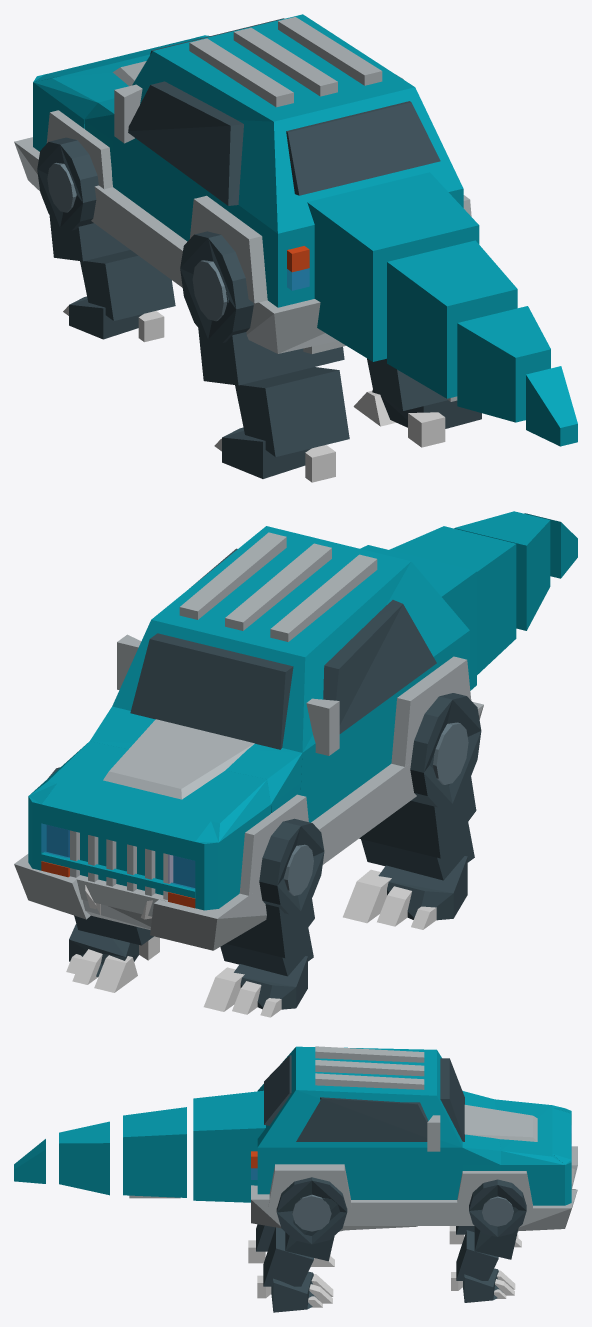
The model's file is car.gltf.
The picture shows the model from 3 angles, top to bottom: view 1: azimuth 30°, elevation 25°; view 2: azimuth 150°, elevation 25°; view 3: azimuth 270°, elevation 25°; orthographic projection. The views are drawn at different scales.
Visible parts, largest first — view 1: node_MeshObject-1685618688-PolyPaper21; view 2: node_MeshObject-1685618688-PolyPaper21, node_MeshObject-1697367040-PolyGlass24; view 3: node_MeshObject-1685618688-PolyPaper21.
Part boxes in pixels (x1=…): node_MeshObject-1685618688-PolyPaper21: x1=14, y1=14, x2=577, y2=482; node_MeshObject-1685618688-PolyPaper21: x1=14, y1=511, x2=577, y2=1017; node_MeshObject-1697367040-PolyGlass24: x1=41, y1=824, x2=194, y2=888; node_MeshObject-1685618688-PolyPaper21: x1=14, y1=1046, x2=577, y2=1312.
Bounding box in the file's own units: 0.2755 × 0.3706 × 0.88.
